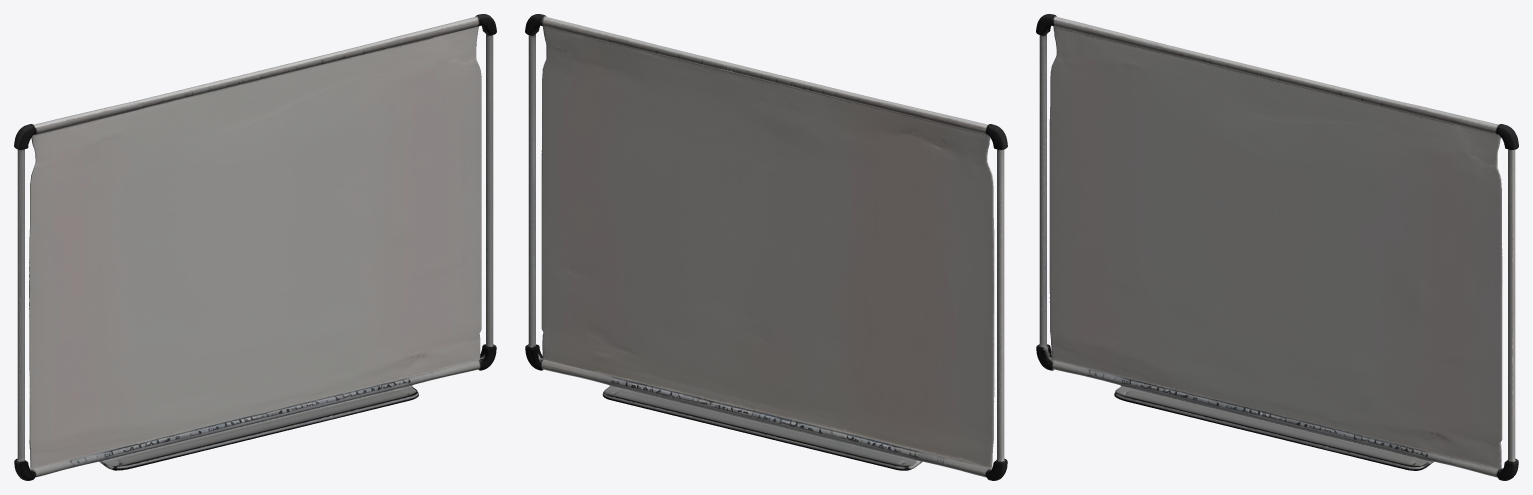
The model's file is tripo_convert_de37ed45-382e-4b55-aeae-a0747a5925eb.fbx.
The picture shows the model from 3 angles, left to right: view 1: azimuth 30°, elevation 25°; view 2: azimuth 150°, elevation 25°; view 3: azimuth 330°, elevation 25°; orthographic projection.
Visible parts, largest first — view 1: tripo_node_de37ed45; view 2: tripo_node_de37ed45; view 3: tripo_node_de37ed45.
Part boxes in pixels (box(x1,y1,x2,y2)): tripo_node_de37ed45: box(14, 14, 496, 480); tripo_node_de37ed45: box(525, 14, 1007, 480); tripo_node_de37ed45: box(1036, 14, 1518, 480).
Size of the model in its own units: 100 by 70.71 by 9.6.
Materials: 1 (1 with a texture image).
